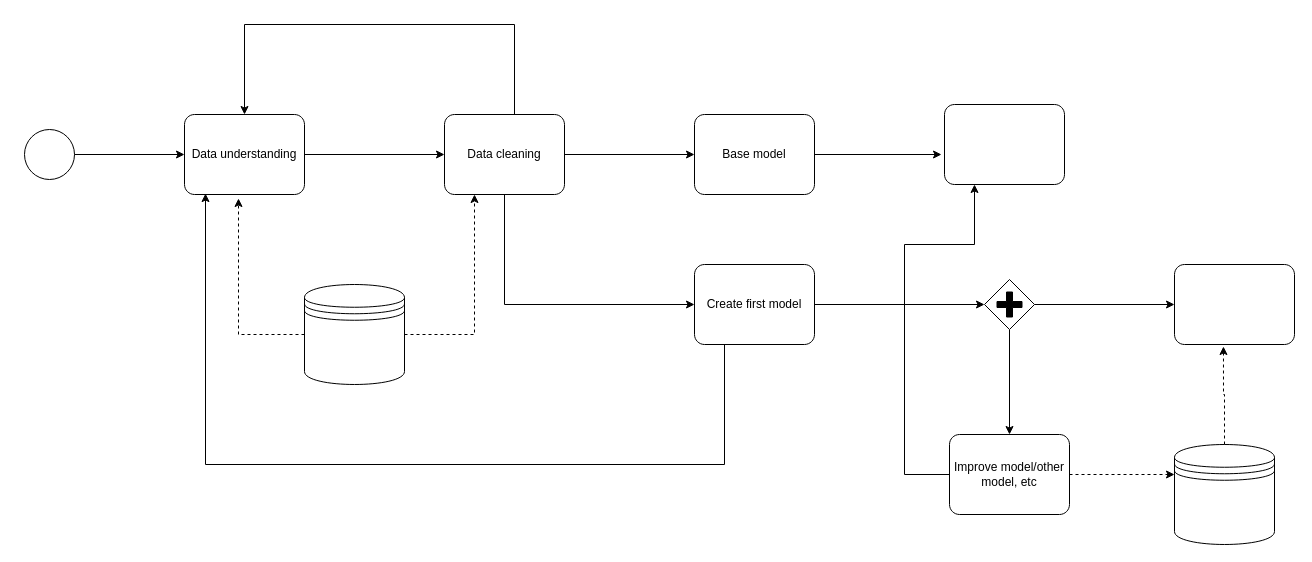
Image size: 1312x562. Some labels were removed from this diagram. Here are the shapes that lost their labels. From the top down, the centre of each, then its label:
the point at 49,154: Start project
the point at 1004,144: Compare model to baseline
the point at 1234,304: Create interface
